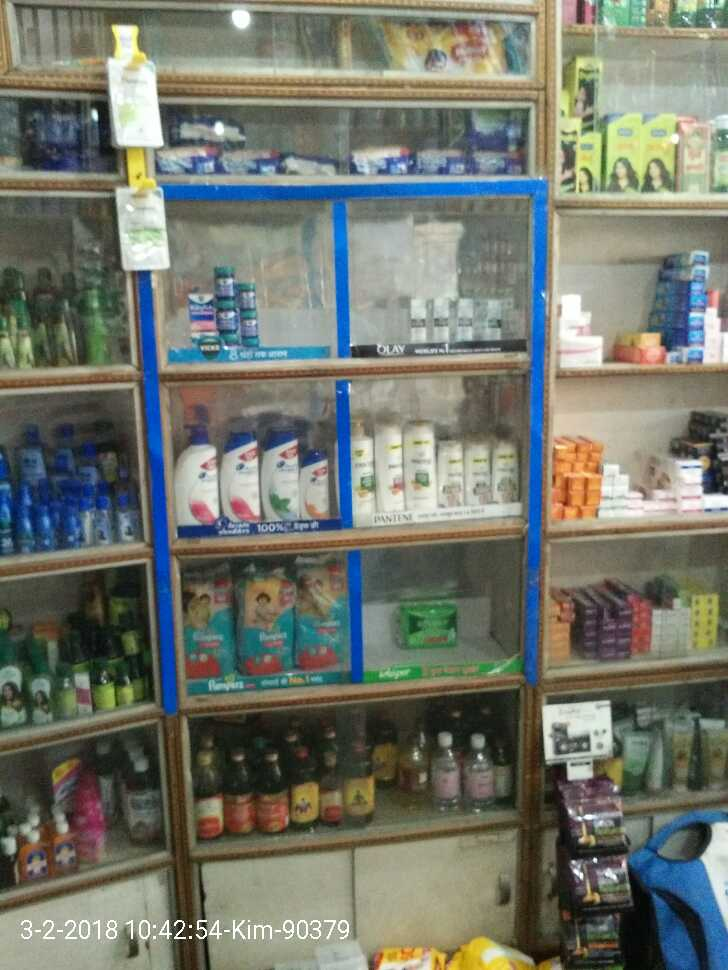beauty: (164, 429, 222, 532), (217, 422, 257, 526), (263, 415, 301, 516), (375, 414, 407, 516), (403, 417, 436, 513), (300, 447, 333, 525), (490, 440, 526, 506), (433, 435, 462, 513), (460, 438, 493, 501), (407, 294, 435, 351), (483, 283, 505, 351), (431, 286, 452, 345), (457, 292, 474, 348)
pharmacy: (174, 556, 235, 686), (234, 559, 295, 685), (285, 555, 350, 672), (390, 604, 466, 646), (181, 294, 220, 351), (238, 286, 259, 347), (211, 296, 239, 336), (208, 264, 240, 297)
